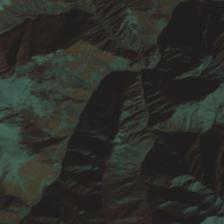landslides: (63, 185, 100, 213), (85, 193, 100, 200)
